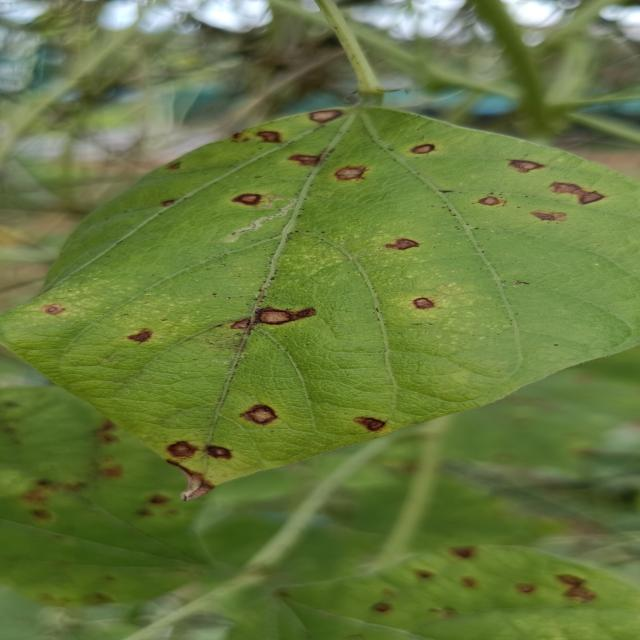Dolicos bean_cercospora leaf spot: (0, 100, 640, 497), (0, 451, 231, 615)
